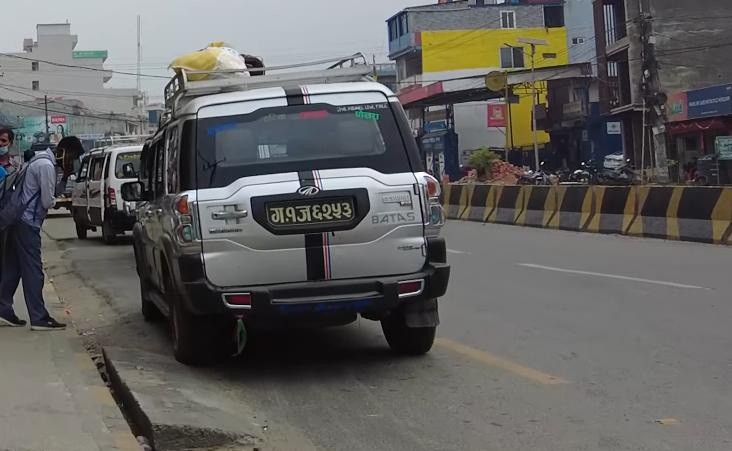SUV: (127, 57, 468, 361)
